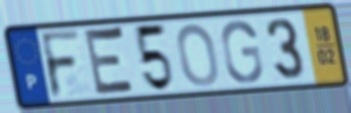3: (265, 16, 307, 81)
5: (129, 22, 175, 94)
E: (82, 24, 138, 99)
F: (38, 28, 84, 101)
G: (219, 18, 265, 86)
O: (174, 22, 221, 89)
